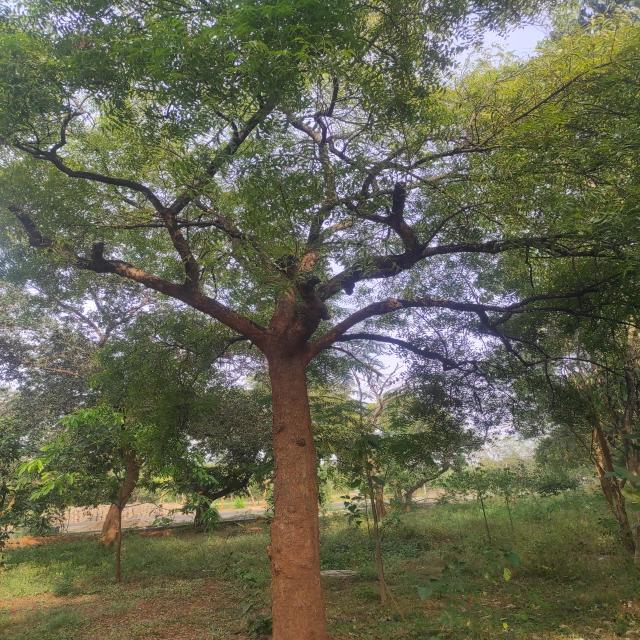Neem Tree: (1, 1, 624, 378)
